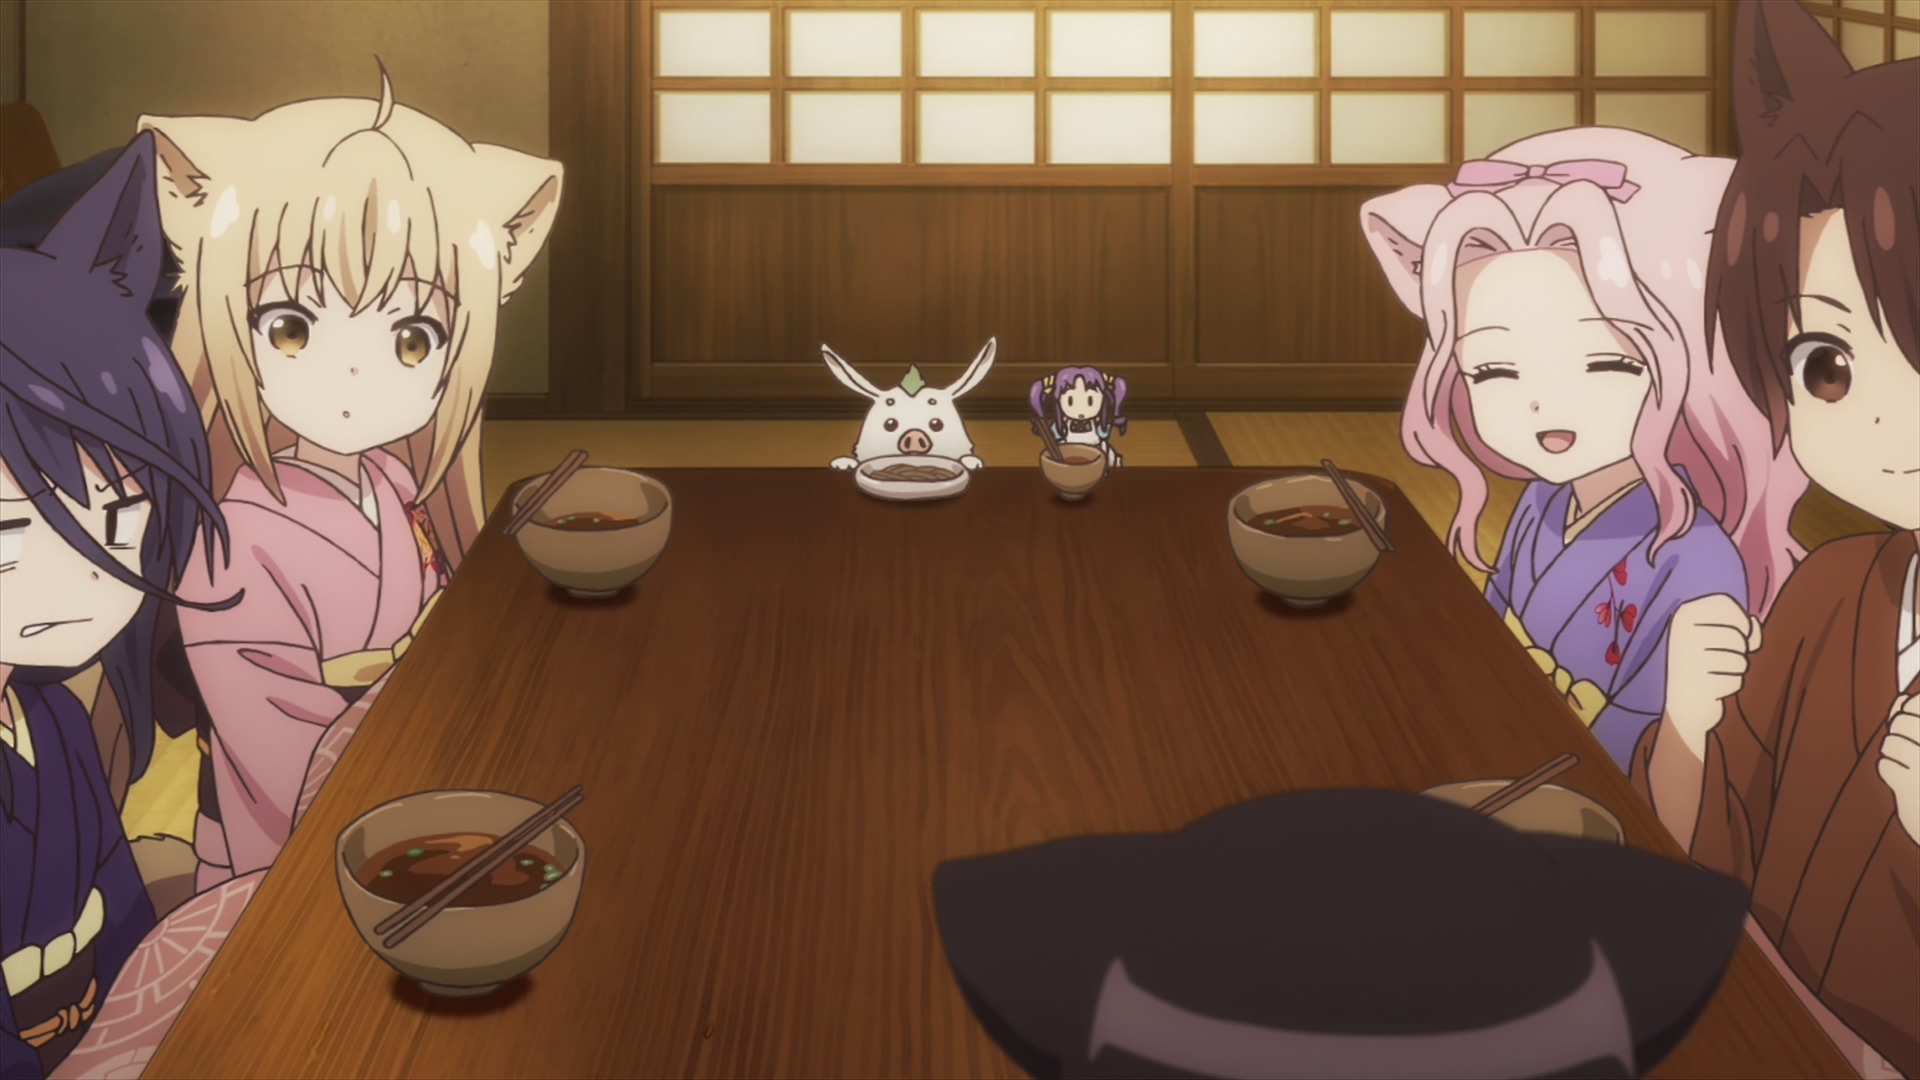枣: (1629, 1, 1920, 1080)
柚: (135, 58, 564, 899)
瓜之介: (819, 338, 996, 469)
皋: (1, 132, 245, 1080)
莲: (1361, 127, 1808, 787)
阿菊: (1026, 368, 1131, 468)
